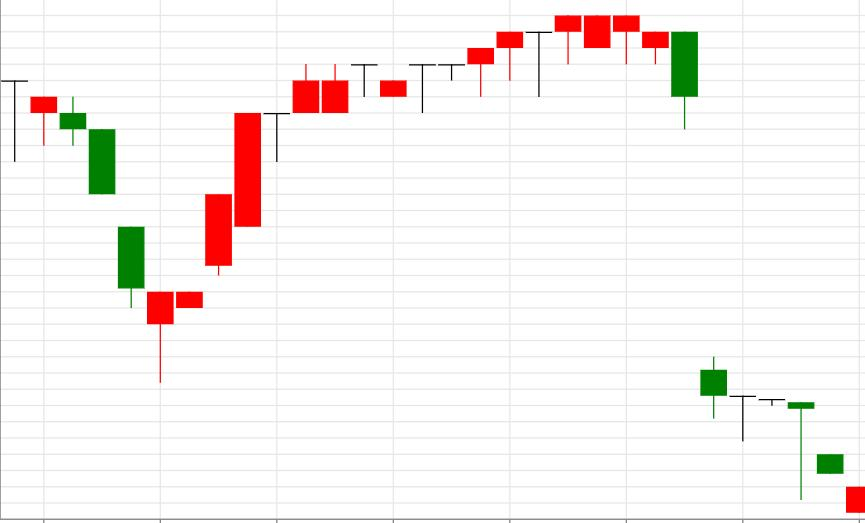hammer_rise: (1, 80, 173, 384)
